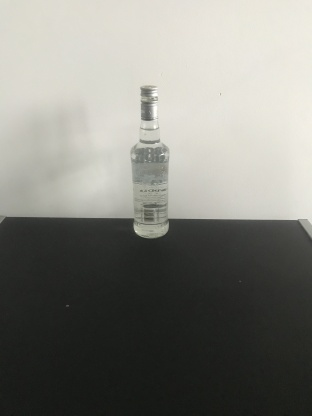nakretka: (139, 83, 159, 121)
